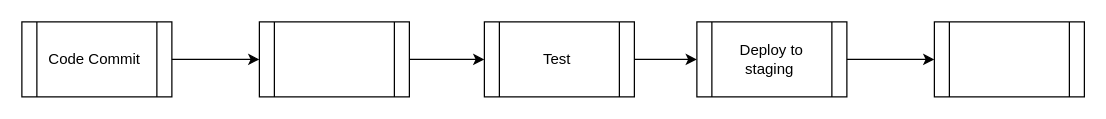
Image size: 1106x119. Some labels were removed from this diagram. Here are the shapes that lost their labels. From the top down, the centre of each, then its label:
point (333, 59): Build
point (1008, 59): Deploy to Production
